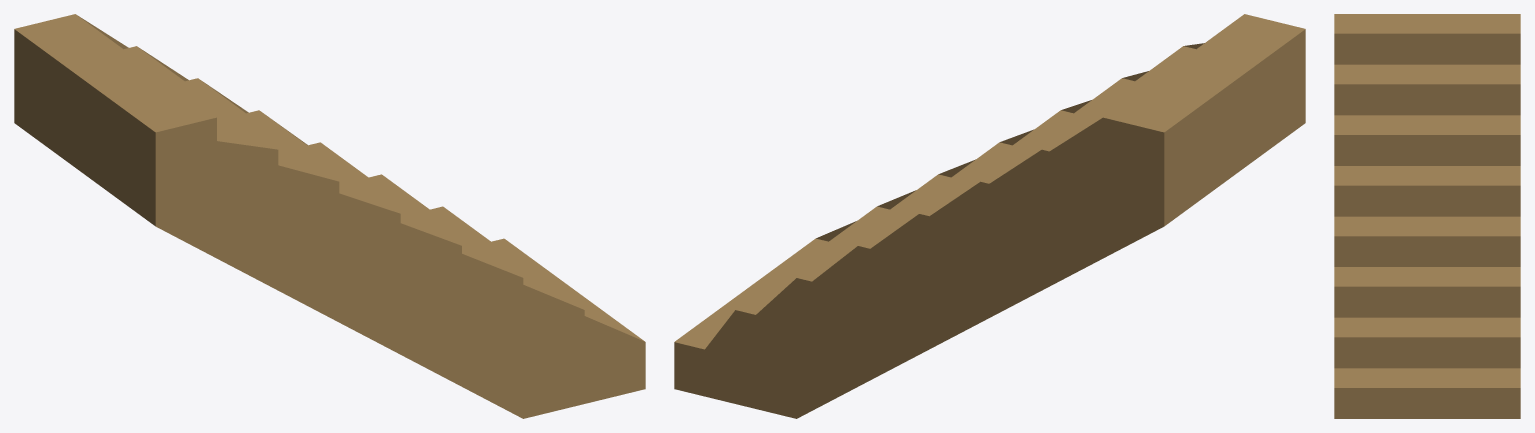
File: stairs_wood_01.glb
The picture shows the model from 3 angles, left to right: view 1: azimuth 30°, elevation 25°; view 2: azimuth 150°, elevation 25°; view 3: azimuth 270°, elevation 25°; orthographic projection. The views are drawn at different scales.
Visible parts, largest first — view 1: Mesh1 Stairs_Wood Model; view 2: Mesh1 Stairs_Wood Model; view 3: Mesh1 Stairs_Wood Model.
Boxes of the visible parts, x1,y1,x2,y2 form: Mesh1 Stairs_Wood Model: (14,14,645,418); Mesh1 Stairs_Wood Model: (674,14,1305,418); Mesh1 Stairs_Wood Model: (1334,14,1520,418).
Bounding box in the file's own units: 3 × 2.2 × 1.5.
